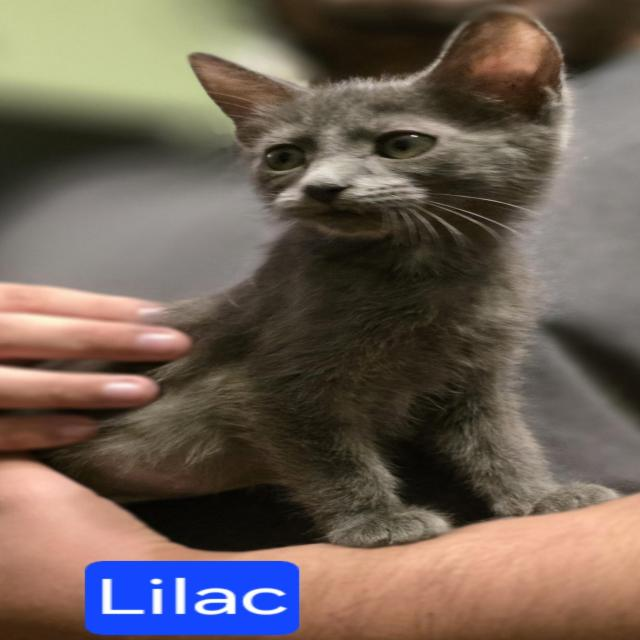russian_blue_cat: (156, 7, 596, 269)
